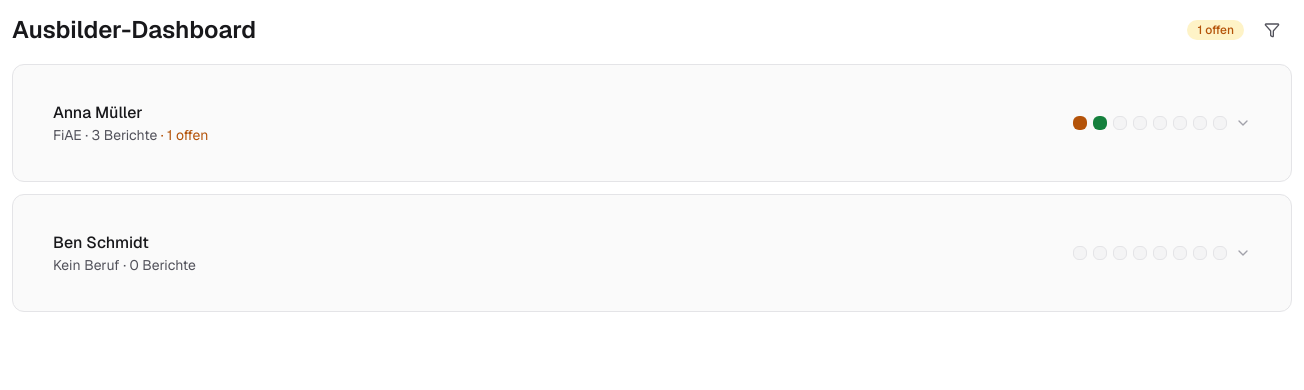
ReviewerDashboardClient › shows empty state when trainee has no reports
Click the text "Ben Schmidt" at [101, 242], box [53,232,149,253]
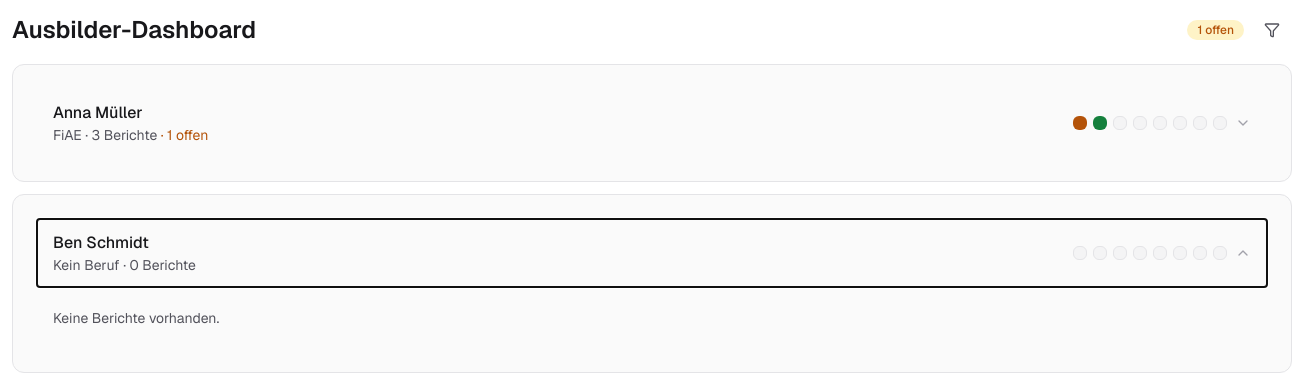
Now the text "Keine Berichte vorhanden." is shown, box [53,309,219,327]
